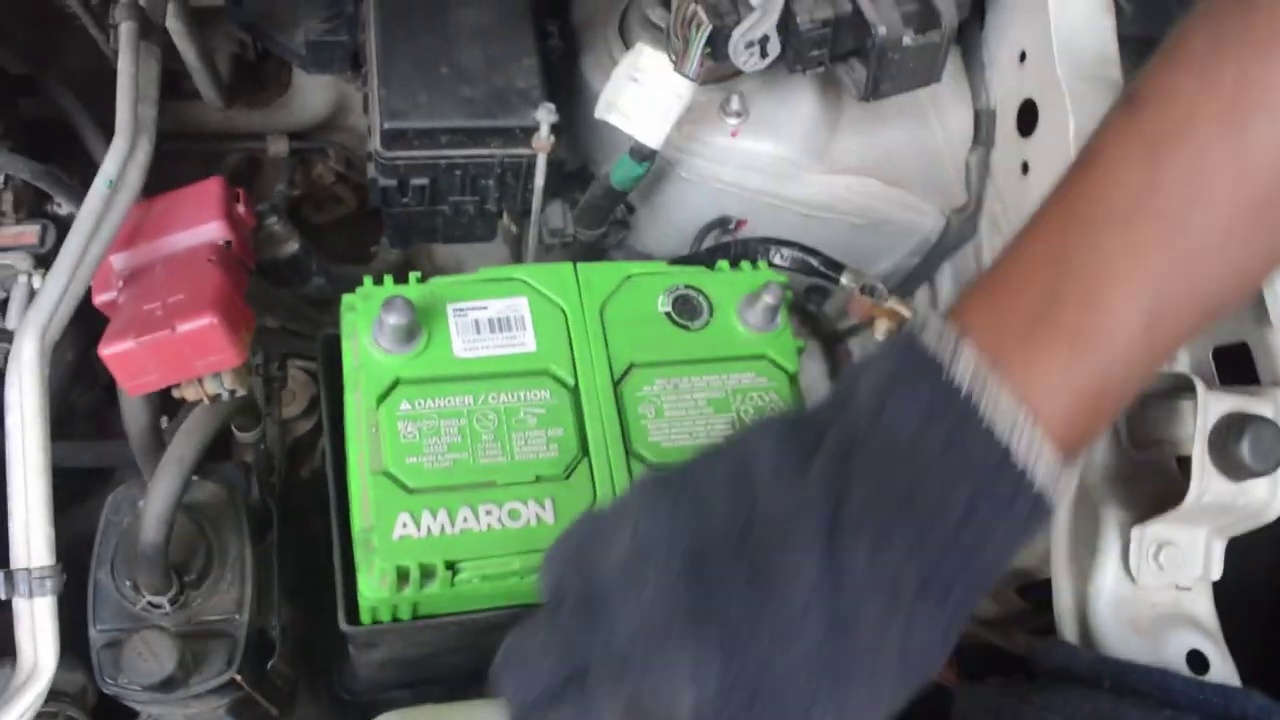battery: (330, 252, 819, 592)
neg_disconnected: (711, 250, 824, 357)
pos_disconnected: (81, 185, 427, 405)
